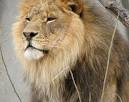lion: (11, 1, 126, 102)
